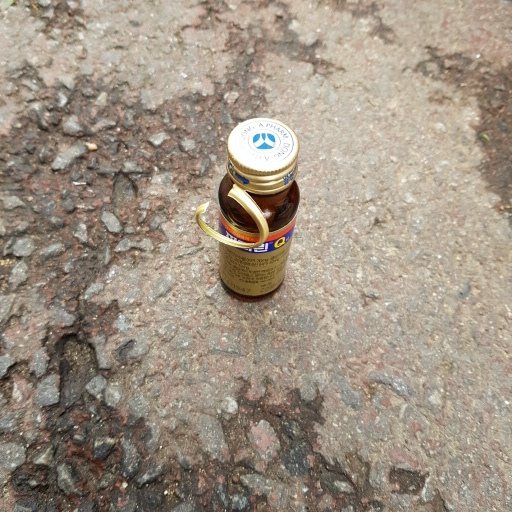Glass_3: (207, 119, 304, 304)
